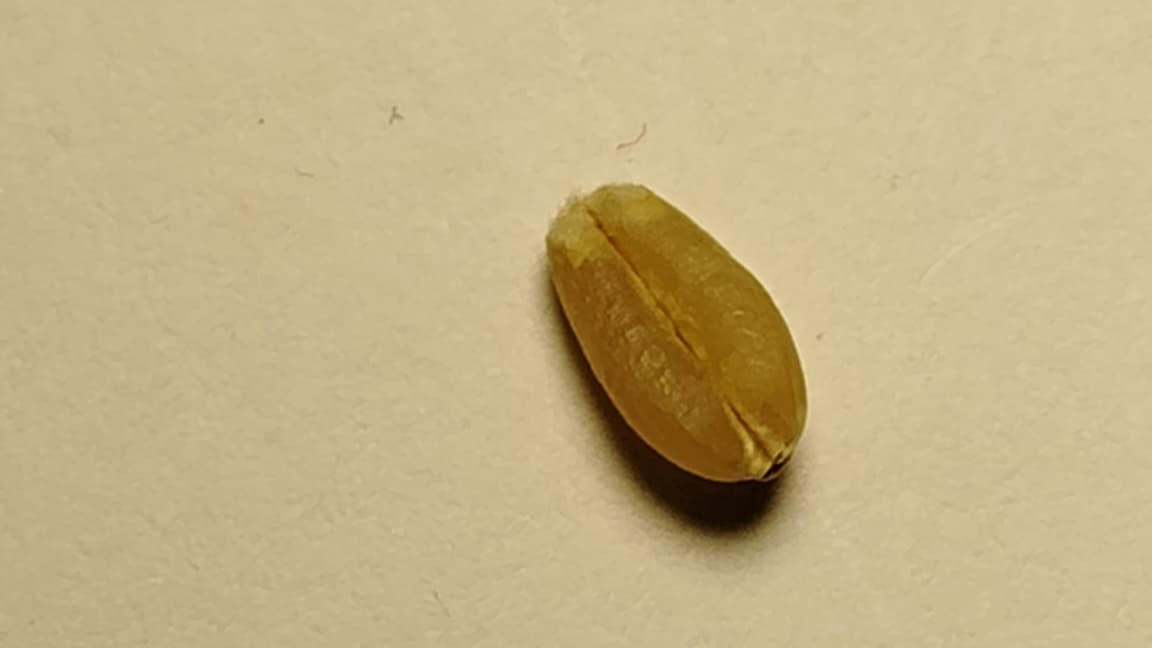healthy: (546, 182, 807, 482)
